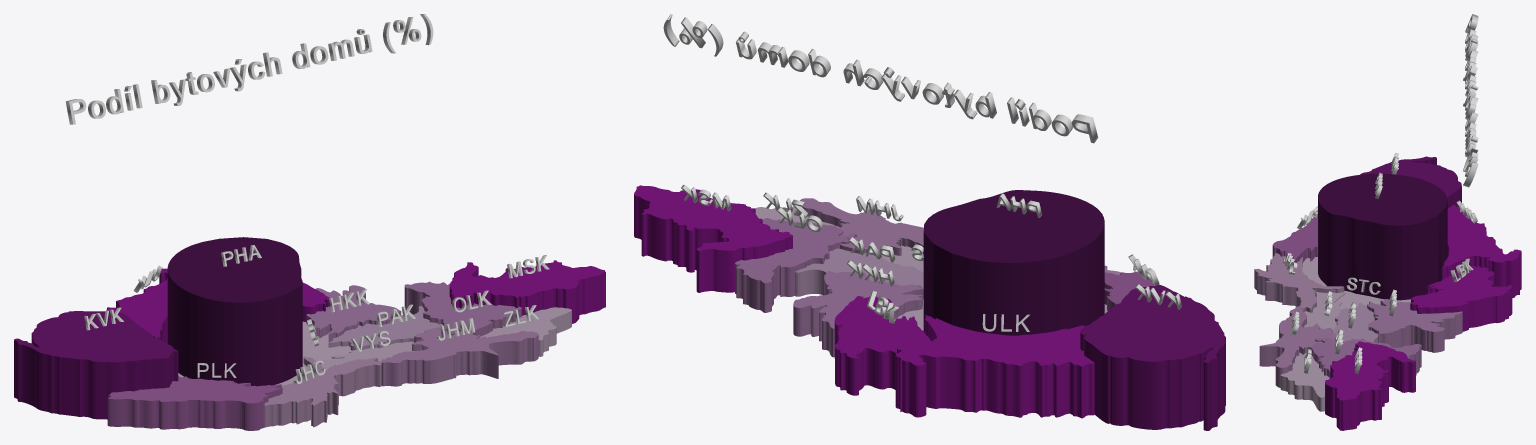
Rendered from podil_byt_cartogram_simplified.glb.
3 renders of one model, left to right at view 1: azimuth 30°, elevation 25°; view 2: azimuth 150°, elevation 25°; view 3: azimuth 270°, elevation 25°, orthographic. The views are drawn at different scales.
Parts seen in each view (by area): view 1: cartogram_podil_byt_domu_simplified, cartogram_podil_byt_domu_simplified.004, cartogram_podil_byt_domu_simplified.003, cartogram_podil_byt_domu_simplified.010, cartogram_podil_byt_domu_simplified.012, Text, cartogram_podil_byt_domu_simplified.002, cartogram_podil_byt_domu_simplified.011, cartogram_podil_byt_domu_simplified.007, cartogram_podil_byt_domu_simplified.005, cartogram_podil_byt_domu_simplified.008, cartogram_podil_byt_domu_simplified.013 (+3 smaller); view 2: cartogram_podil_byt_domu_simplified, cartogram_podil_byt_domu_simplified.004, cartogram_podil_byt_domu_simplified.005, cartogram_podil_byt_domu_simplified.012, Text, cartogram_podil_byt_domu_simplified.006, cartogram_podil_byt_domu_simplified.011, cartogram_podil_byt_domu_simplified.007, cartogram_podil_byt_domu_simplified.010, cartogram_podil_byt_domu_simplified.008, cartogram_podil_byt_domu_simplified.003, Text.013; view 3: cartogram_podil_byt_domu_simplified, cartogram_podil_byt_domu_simplified.012, cartogram_podil_byt_domu_simplified.006, cartogram_podil_byt_domu_simplified.005, cartogram_podil_byt_domu_simplified.007, cartogram_podil_byt_domu_simplified.002, cartogram_podil_byt_domu_simplified.010, Text, cartogram_podil_byt_domu_simplified.004, cartogram_podil_byt_domu_simplified.013, cartogram_podil_byt_domu_simplified.011, cartogram_podil_byt_domu_simplified.003 (+4 smaller).
Boxes of the visible parts, x1,y1,x2,y2 form: cartogram_podil_byt_domu_simplified: [167, 237, 302, 386]; cartogram_podil_byt_domu_simplified.004: [14, 311, 178, 419]; cartogram_podil_byt_domu_simplified.003: [107, 376, 282, 430]; cartogram_podil_byt_domu_simplified.010: [381, 327, 538, 386]; cartogram_podil_byt_domu_simplified.012: [449, 260, 605, 323]; Text: [65, 14, 433, 124]; cartogram_podil_byt_domu_simplified.002: [264, 356, 381, 427]; cartogram_podil_byt_domu_simplified.011: [404, 281, 521, 336]; cartogram_podil_byt_domu_simplified.007: [306, 285, 401, 342]; cartogram_podil_byt_domu_simplified.005: [106, 268, 167, 343]; cartogram_podil_byt_domu_simplified.008: [328, 306, 442, 350]; cartogram_podil_byt_domu_simplified.013: [479, 307, 571, 356]; cartogram_podil_byt_domu_simplified: [923, 190, 1104, 335]; cartogram_podil_byt_domu_simplified.004: [1080, 285, 1225, 430]; cartogram_podil_byt_domu_simplified.005: [895, 314, 1094, 418]; cartogram_podil_byt_domu_simplified.012: [634, 185, 792, 292]; Text: [663, 14, 1098, 143]; cartogram_podil_byt_domu_simplified.006: [834, 296, 930, 395]; cartogram_podil_byt_domu_simplified.011: [735, 218, 856, 312]; cartogram_podil_byt_domu_simplified.007: [793, 271, 923, 357]; cartogram_podil_byt_domu_simplified.010: [800, 198, 923, 257]; cartogram_podil_byt_domu_simplified.008: [795, 248, 923, 296]; cartogram_podil_byt_domu_simplified.003: [1104, 271, 1154, 310]; Text.013: [681, 185, 731, 211]; cartogram_podil_byt_domu_simplified: [1318, 173, 1447, 300]; cartogram_podil_byt_domu_simplified.012: [1325, 341, 1415, 430]; cartogram_podil_byt_domu_simplified.006: [1410, 266, 1512, 331]; cartogram_podil_byt_domu_simplified.005: [1442, 205, 1521, 297]; cartogram_podil_byt_domu_simplified.007: [1367, 299, 1462, 352]; cartogram_podil_byt_domu_simplified.002: [1254, 253, 1344, 313]; cartogram_podil_byt_domu_simplified.010: [1259, 306, 1335, 387]; Text: [1463, 14, 1478, 187]; cartogram_podil_byt_domu_simplified.004: [1360, 156, 1461, 208]; cartogram_podil_byt_domu_simplified.013: [1280, 352, 1329, 411]; cartogram_podil_byt_domu_simplified.011: [1310, 337, 1421, 378]; cartogram_podil_byt_domu_simplified.003: [1272, 215, 1317, 262].
Bounding box in the file's own units: 207 × 96.46 × 104.
18 materials, 3 textured.
